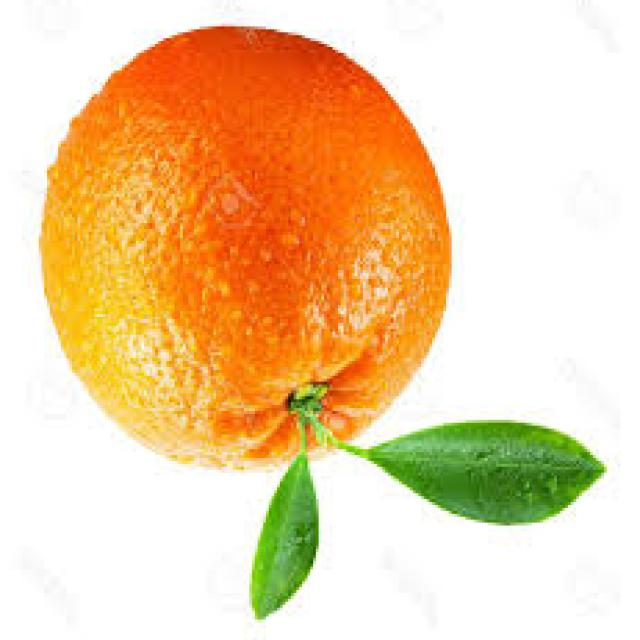orange: (39, 24, 466, 480)
